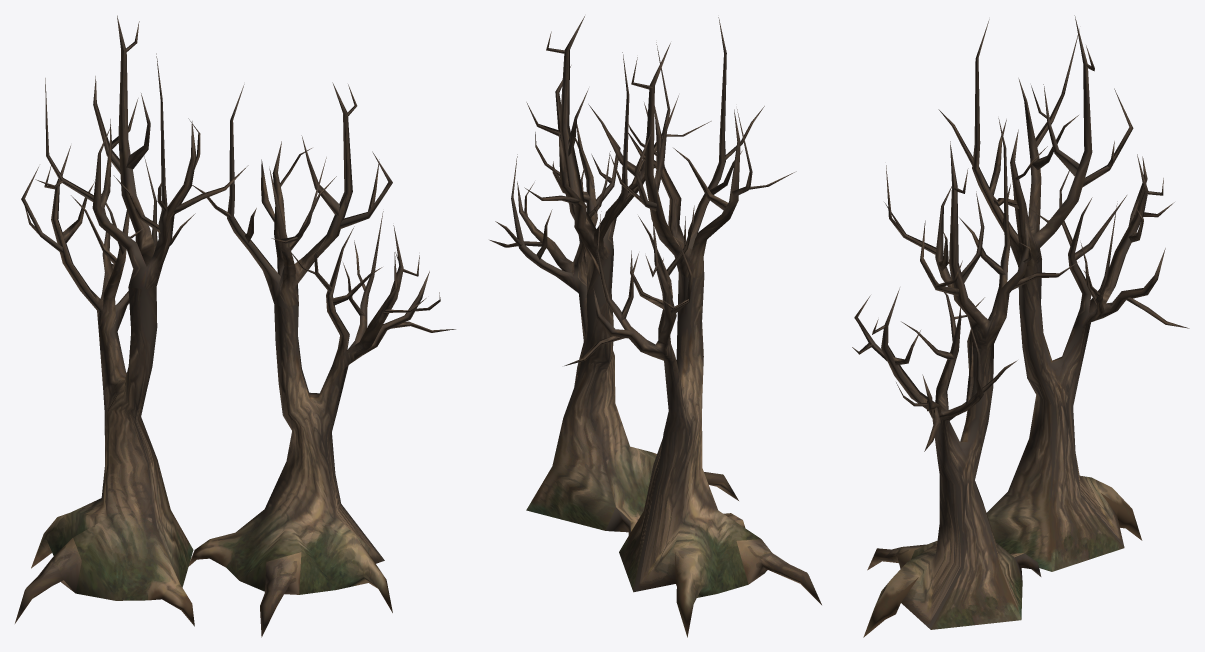
File: plants_tall_tree_trunks214.fbx
3 renders of one model, left to right at view 1: azimuth 30°, elevation 25°; view 2: azimuth 150°, elevation 25°; view 3: azimuth 270°, elevation 25°, orthographic. The views are drawn at different scales.
Visible parts, largest first — view 1: Material_#238683193/fancy_tree; view 2: Material_#238683193/fancy_tree; view 3: Material_#238683193/fancy_tree.
Part boxes in pixels (bbox=[...]): Material_#238683193/fancy_tree: bbox=[15, 15, 455, 637]; Material_#238683193/fancy_tree: bbox=[489, 16, 821, 637]; Material_#238683193/fancy_tree: bbox=[852, 15, 1189, 637].
Bounding box in the file's own units: 7.61 × 10.53 × 5.88.
